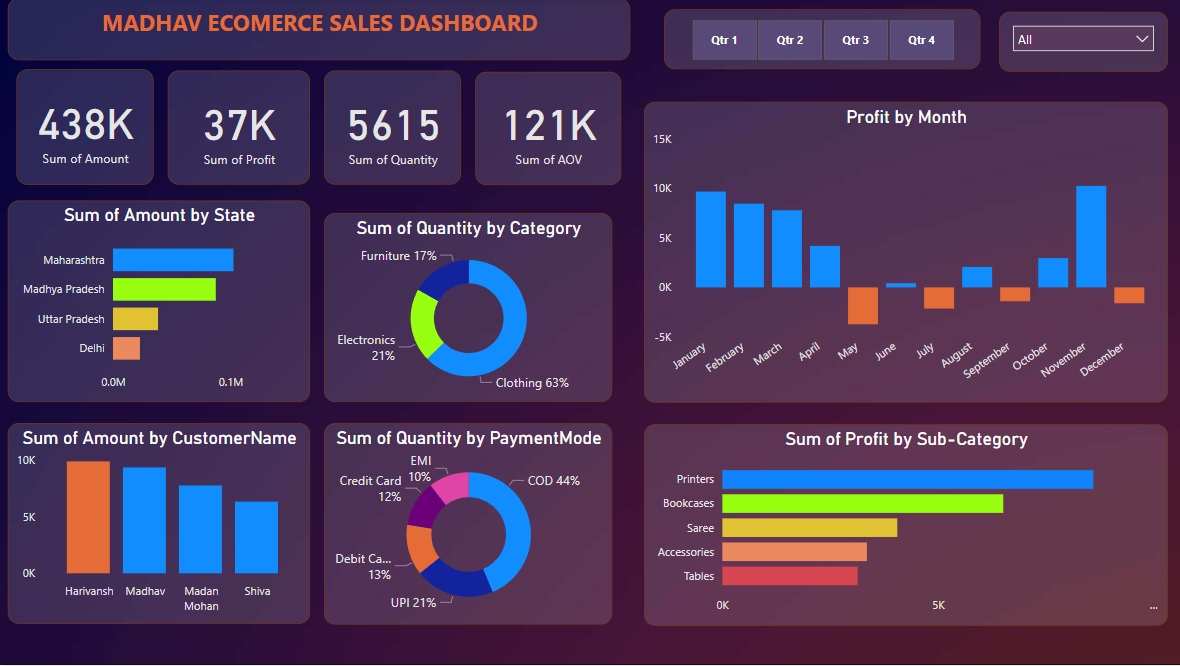

What the dashboard file says about the page in this screenshot:
{"tool":"powerbi","page":{"name":"Page 1","canvas":[1280,720],"ordinal":0},"visuals":[{"type":"textbox","box":[9.4,0,672,67.5],"z":0},{"type":"columnChart","title":"Profit by Month","fields":{"Y":["Details.Profit"],"Category":["Orders.Order Date.Variation.Date Hierarchy.Month"]},"box":[696.3,112,565.4,325.2],"z":1},{"type":"barChart","fields":{"Category":["Details.Sub-Category"],"Y":["Details.Profit"]},"box":[696.3,460.1,565.4,217.2],"z":2},{"type":"donutChart","fields":{"Category":["Details.Category"],"Y":["Details.Quantity"]},"box":[351,231.7,311.2,204.3],"z":3},{"type":"donutChart","fields":{"Y":["Details.Quantity"],"Category":["Details.PaymentMode"]},"box":[351,459.3,311.2,218],"z":4},{"type":"card","fields":{"Values":["Details.Amount"]},"box":[19.2,76.8,148.1,124.8],"z":5},{"type":"card","fields":{"Values":["Details.Profit"]},"box":[182.3,78.1,153.6,123.4],"z":6},{"type":"card","fields":{"Values":["Details.Quantity"]},"box":[351,78.1,148.1,123.4],"z":7},{"type":"card","fields":{"Values":["Details.AOV"]},"box":[514.1,79.5,157.7,122],"z":8},{"type":"barChart","fields":{"Category":["Orders.State"],"Y":["Details.Amount"]},"box":[9.6,218,326.3,218],"z":9},{"type":"columnChart","fields":{"Category":["Orders.CustomerName"],"Y":["Details.Amount"]},"box":[9.6,459.3,326.3,216.6],"z":10},{"type":"slicer","fields":{"Values":["Orders.Order Date.Variation.Date Hierarchy.Quarter"]},"box":[717.9,12.1,341.4,64.8],"z":11},{"type":"slicer","fields":{"Values":["Orders.State"]},"box":[1079.5,14.8,182.2,64.8],"z":12}]}

Visuals, with their boxes in screenshot pixels (x1, y1, x2, y2), scaled from the page's 1280x720 canvas onto the 1180x666 screenshot:
textbox: {"x1": 9, "y1": 0, "x2": 628, "y2": 62}
"Profit by Month" columnChart: {"x1": 642, "y1": 104, "x2": 1163, "y2": 404}
barChart - Details.Sub-Category x Details.Profit: {"x1": 642, "y1": 426, "x2": 1163, "y2": 627}
donutChart - Details.Category x Details.Quantity: {"x1": 324, "y1": 214, "x2": 610, "y2": 403}
donutChart - Details.Quantity x Details.PaymentMode: {"x1": 324, "y1": 425, "x2": 610, "y2": 627}
card - Details.Amount: {"x1": 18, "y1": 71, "x2": 154, "y2": 186}
card - Details.Profit: {"x1": 168, "y1": 72, "x2": 310, "y2": 186}
card - Details.Quantity: {"x1": 324, "y1": 72, "x2": 460, "y2": 186}
card - Details.AOV: {"x1": 474, "y1": 74, "x2": 619, "y2": 186}
barChart - Orders.State x Details.Amount: {"x1": 9, "y1": 202, "x2": 310, "y2": 403}
columnChart - Orders.CustomerName x Details.Amount: {"x1": 9, "y1": 425, "x2": 310, "y2": 625}
slicer - Orders.Order Date.Variation.Date Hierarchy.Quarter: {"x1": 662, "y1": 11, "x2": 977, "y2": 71}
slicer - Orders.State: {"x1": 995, "y1": 14, "x2": 1163, "y2": 74}
